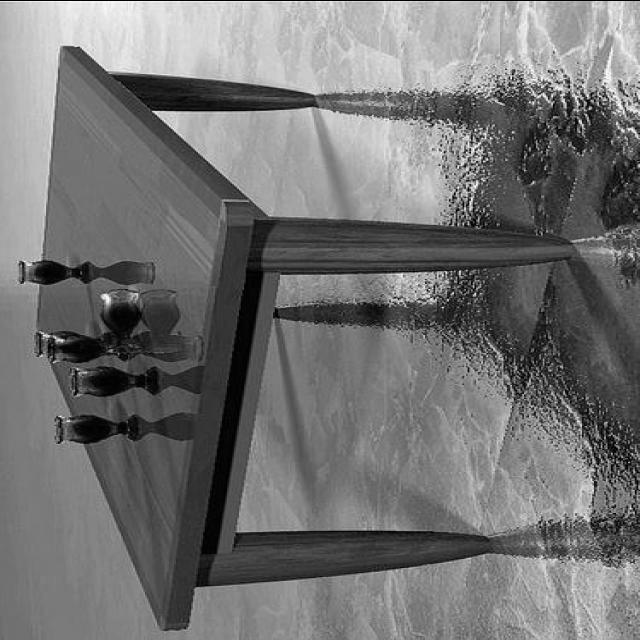table: (33, 45, 573, 631)
